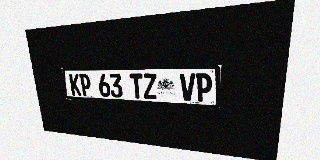3: (109, 74, 123, 98)
6: (98, 74, 111, 97)
K: (69, 74, 81, 96)
P: (196, 73, 212, 102), (79, 74, 92, 96)
T: (129, 74, 144, 99)
V: (180, 73, 195, 101)
Z: (143, 73, 157, 99)
